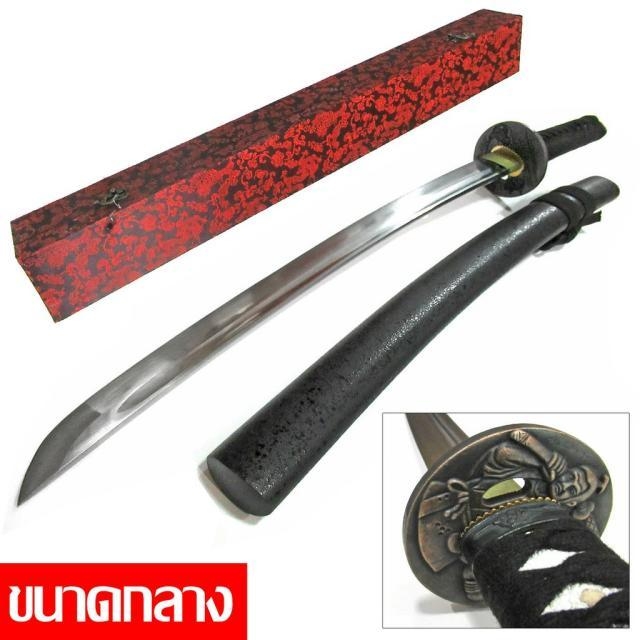long sword: (15, 110, 609, 506), (379, 408, 630, 622)
